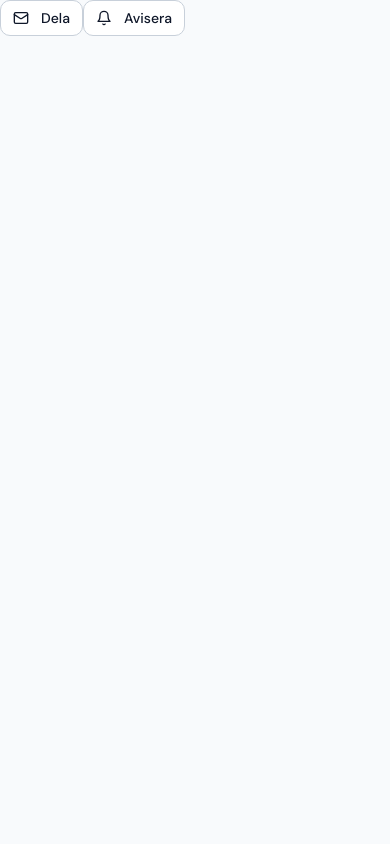
Test case: assignment email UI › shows the customer recipient before sending and blocks missing addresses
The image size is (390, 844).
Click the button "Avisera".
click(134, 18)  # box left=83, top=0, right=185, bottom=36
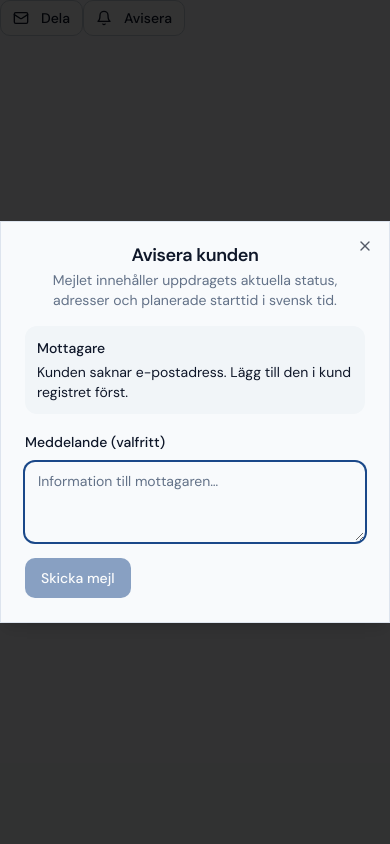
Now the button "Skicka mejl" is disabled, box left=25, top=558, right=130, bottom=598
